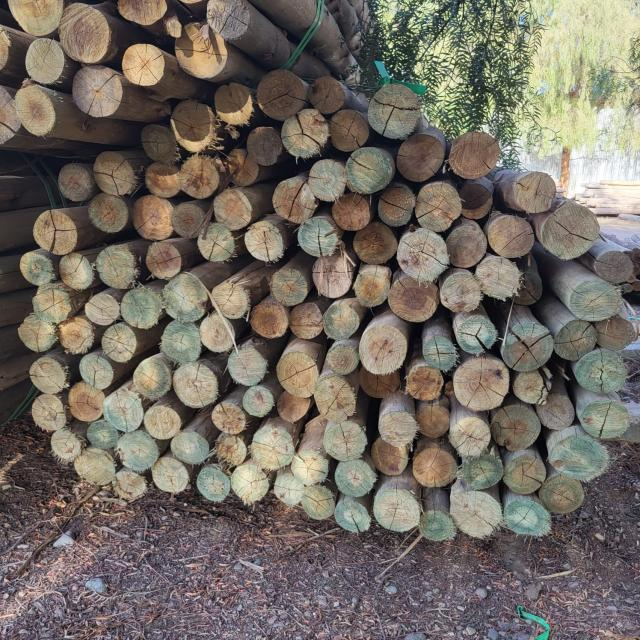package: (22, 74, 635, 540)
